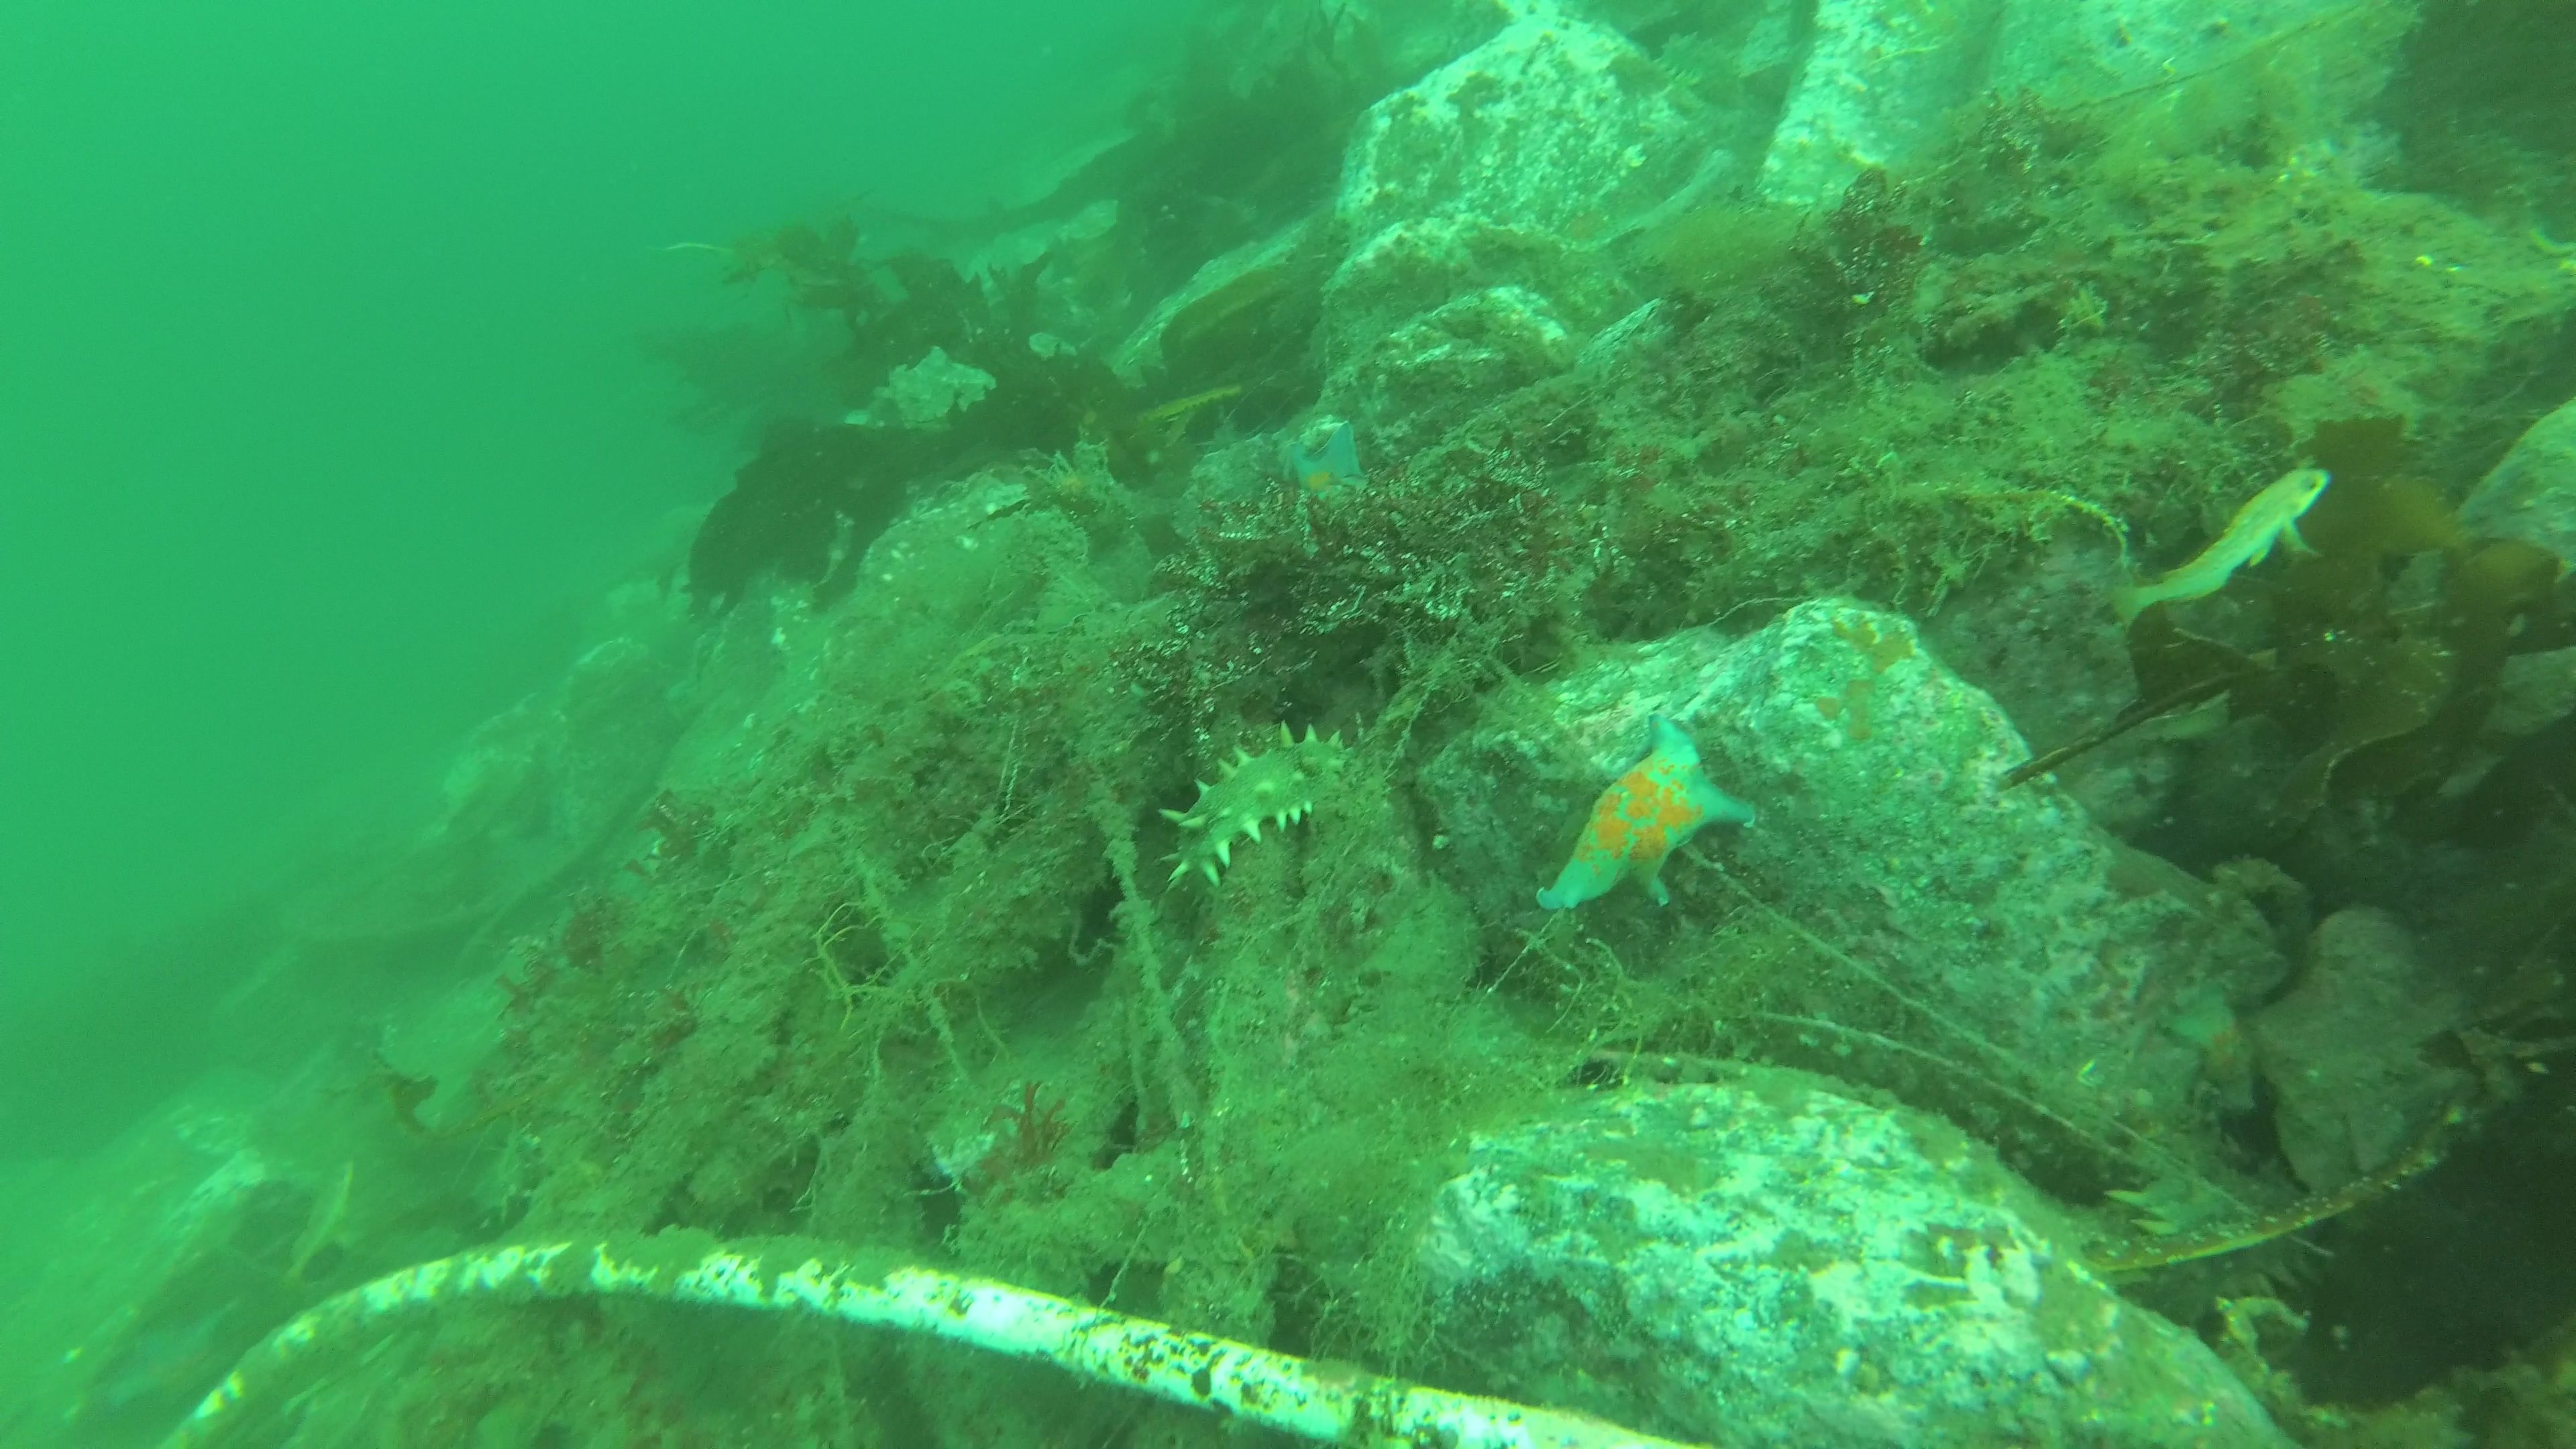holothurian: (1159, 718, 1355, 885), (1658, 30, 1748, 104)
starfish: (1536, 717, 1759, 916), (2166, 989, 2263, 1113), (1279, 425, 1369, 533)
